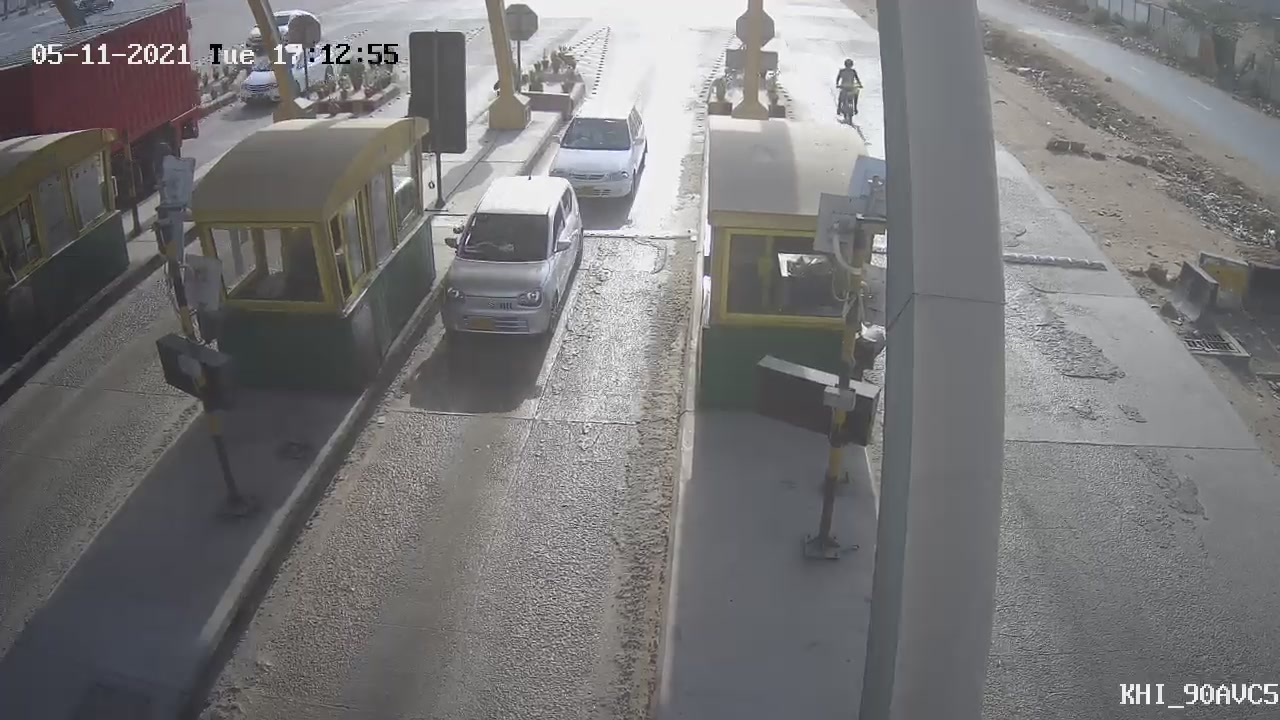F1: (418, 164, 605, 360), (525, 87, 665, 222)
